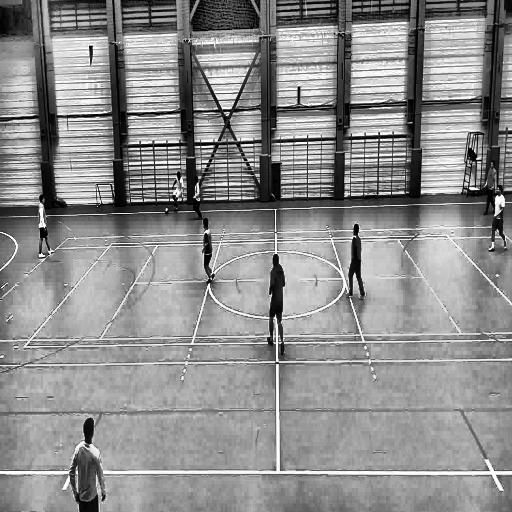ball: (164, 206, 170, 218)
player: (68, 414, 106, 512), (267, 252, 288, 361), (346, 223, 369, 304), (488, 185, 508, 254), (37, 193, 57, 261), (201, 217, 216, 287), (482, 160, 500, 216), (171, 170, 185, 216), (191, 175, 203, 222)
